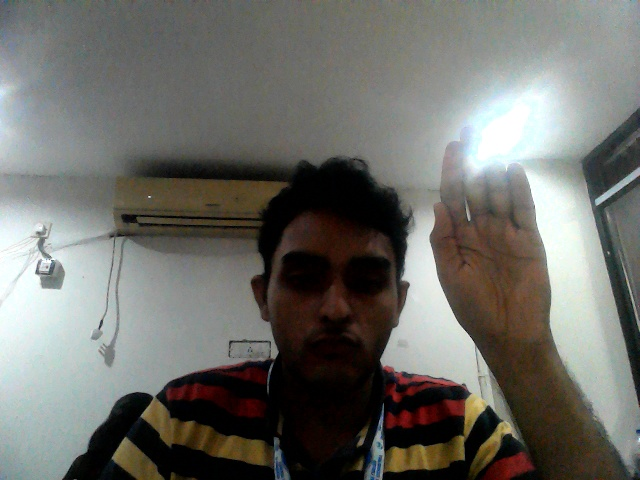palm: (428, 119, 558, 354)
